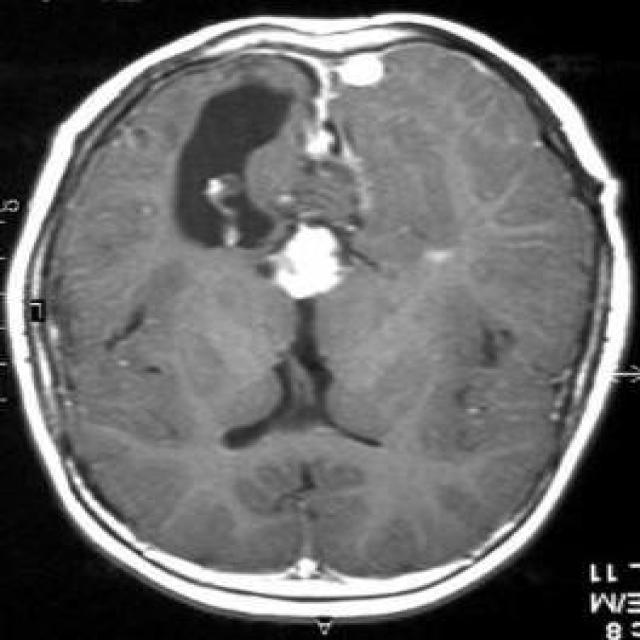brain tumor: (175, 89, 291, 250)
